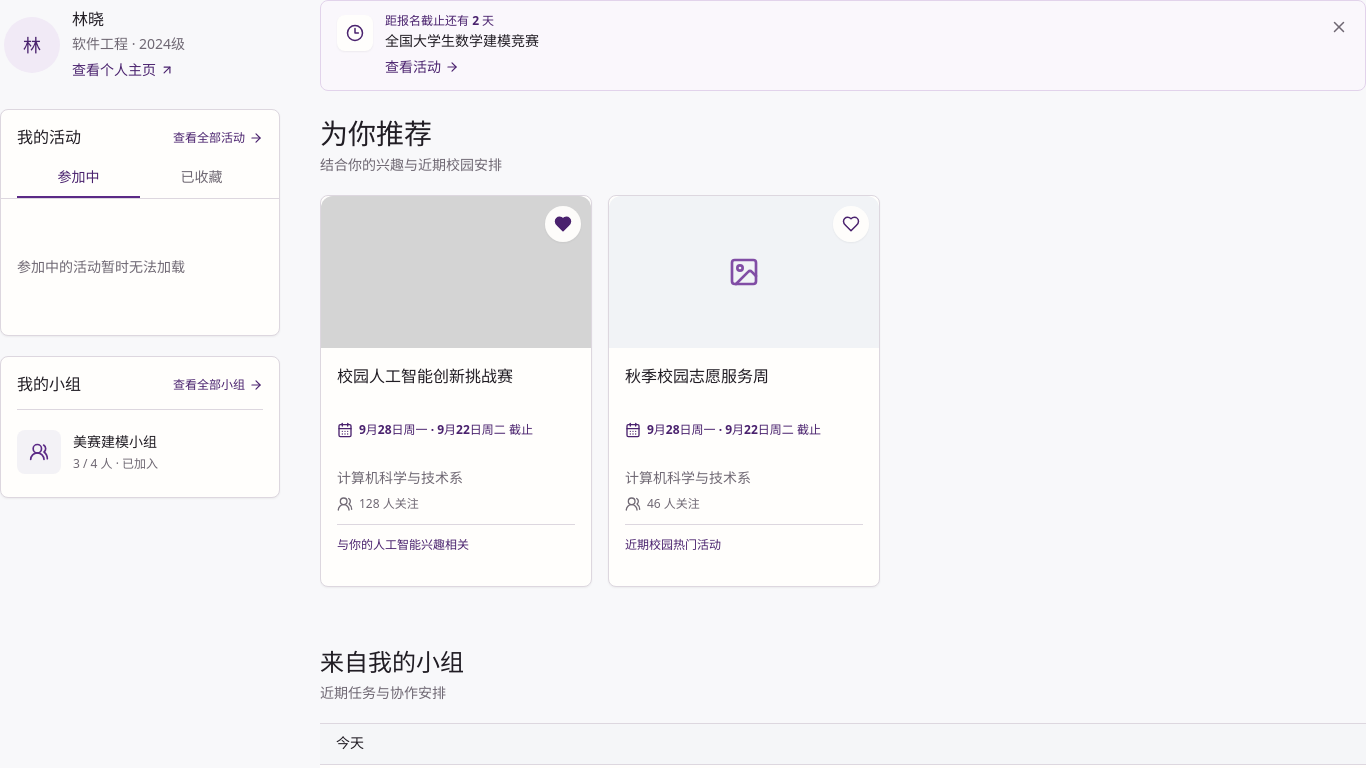
Home › keeps saved events selectable when attending events are degraded
Expected: the text "参加中的活动暂时无法加载" is shown, [17,257,185,277]
Click the tab "已收藏" at (202, 178), box [140,158,263,198]
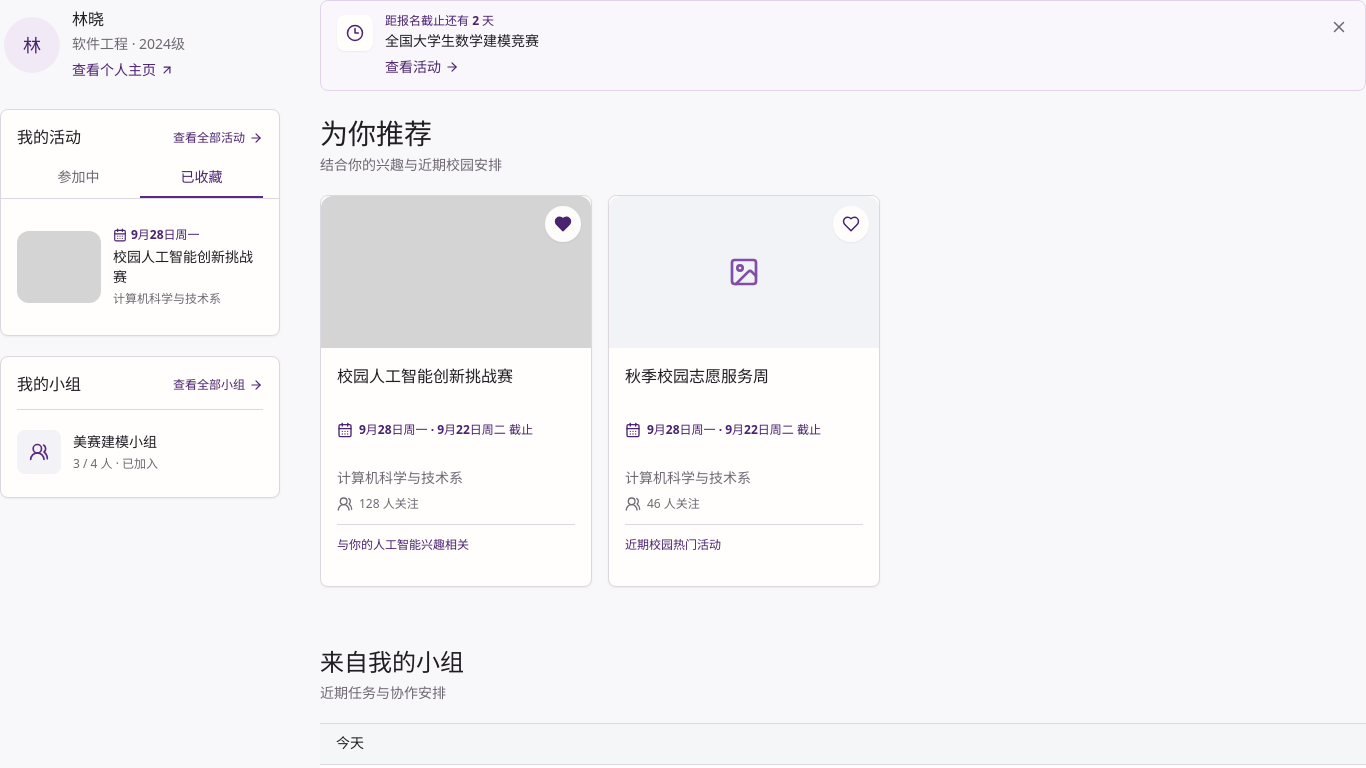
Result: the text "校园人工智能创新挑战赛" below "我的活动" is shown at [113,247,253,286]
